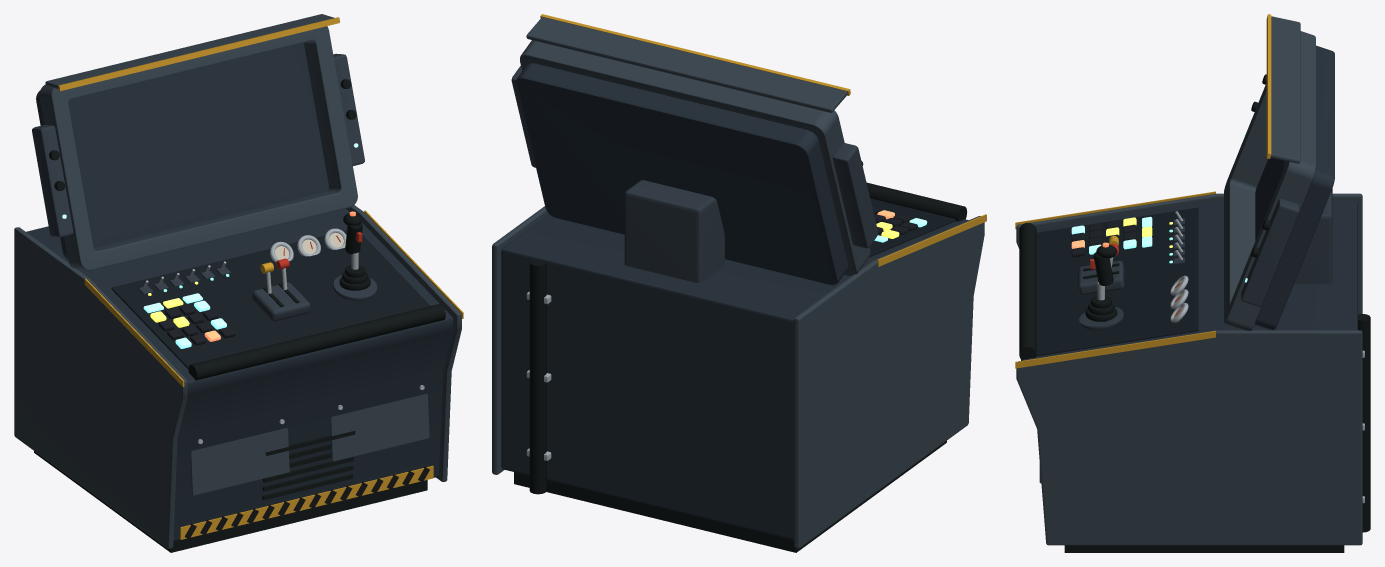
3 renders of one model, left to right at view 1: azimuth 30°, elevation 25°; view 2: azimuth 150°, elevation 25°; view 3: azimuth 270°, elevation 25°, orthographic. The views are drawn at different scales.
Parts seen in each view (by area): view 1: sub_helm_console; view 2: sub_helm_console; view 3: sub_helm_console.
Part boxes in pixels (<box>): sub_helm_console: <box>14,14,463,552</box>; sub_helm_console: <box>492,14,986,552</box>; sub_helm_console: <box>1015,14,1370,552</box>.
Bounding box in the file's own units: 1.58 × 1.95 × 1.55.
